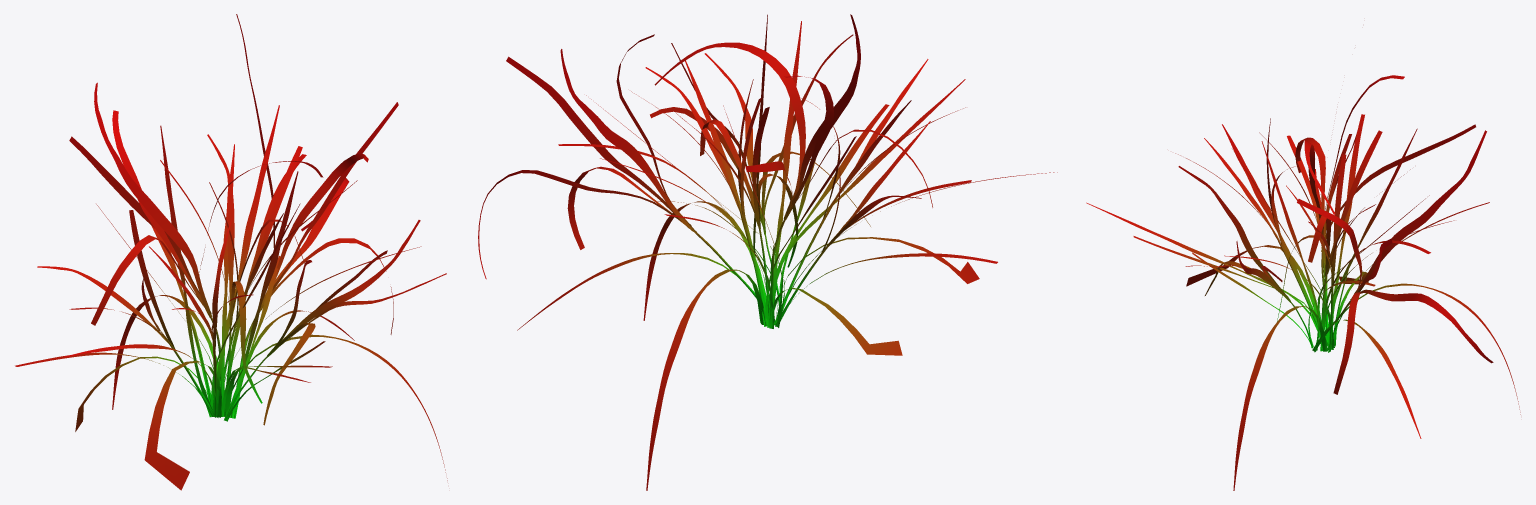
The model's file is Lemongrass_LOD0_Var4_sktne.fbx.
3 views of the same model, side by side, from view 1: azimuth 30°, elevation 25°; view 2: azimuth 150°, elevation 25°; view 3: azimuth 270°, elevation 25° (orthographic). The views are drawn at different scales.
Visible parts, largest first — view 1: _434b_Var4_LOD0; view 2: _434b_Var4_LOD0; view 3: _434b_Var4_LOD0.
Boxes of the visible parts, x1,y1,x2,y2 form: _434b_Var4_LOD0: (15,14,447,490); _434b_Var4_LOD0: (478,14,1057,490); _434b_Var4_LOD0: (1086,75,1520,490).
Bounding box in the file's own units: 67.45 × 62.34 × 68.19.
